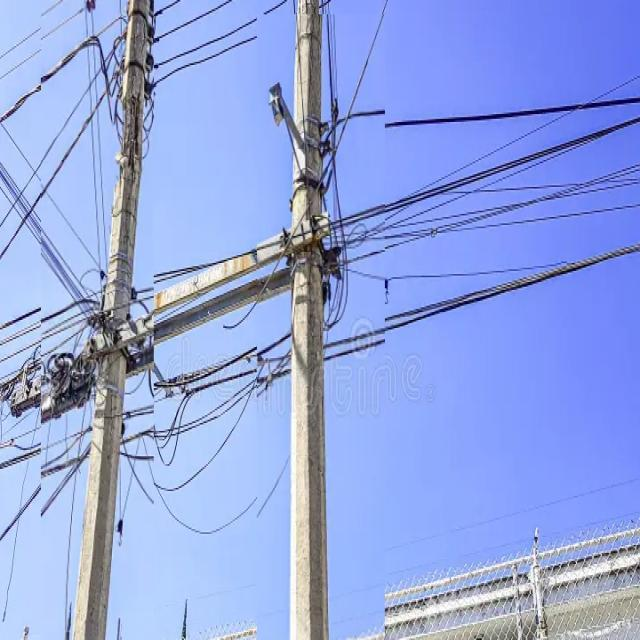light_pole: (257, 14, 385, 640), (41, 0, 154, 640)
